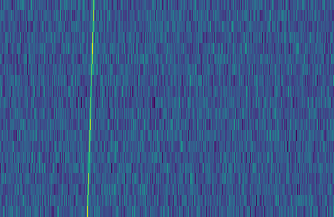signal: (81, 0, 97, 217)
